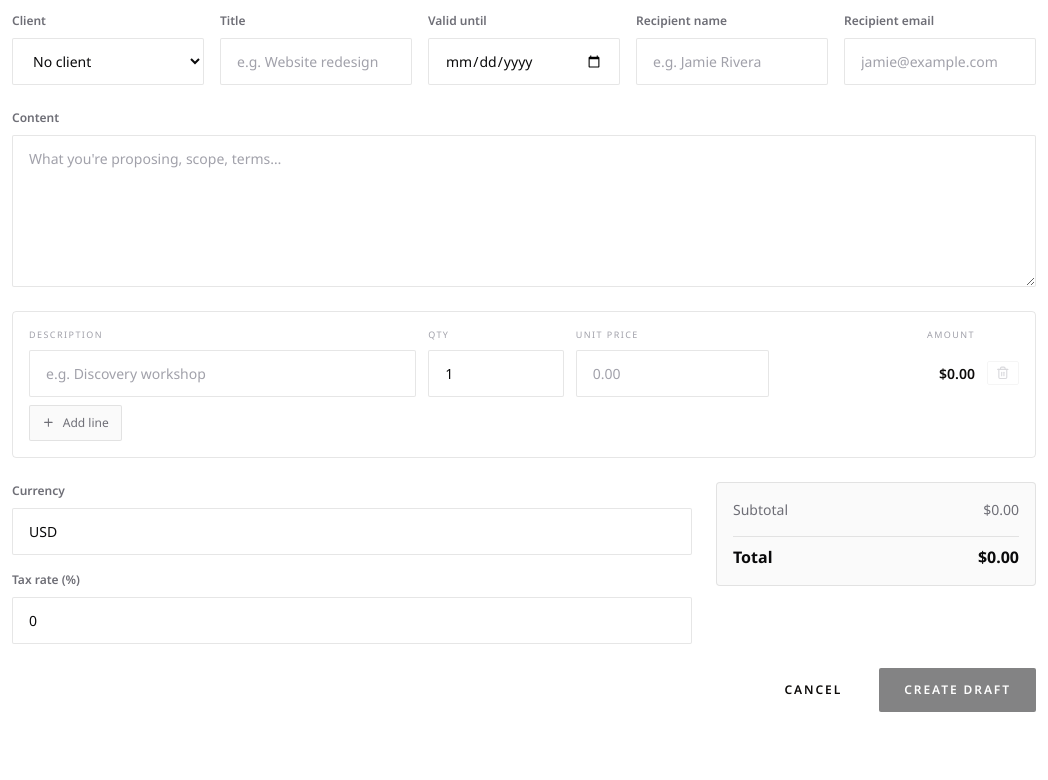
ProposalForm › computes live totals matching the backend formula
The width and height of the screenshot is (1048, 780).
In the field labelled "Title": (316, 62) [220, 38, 412, 85], type "Website redesign"
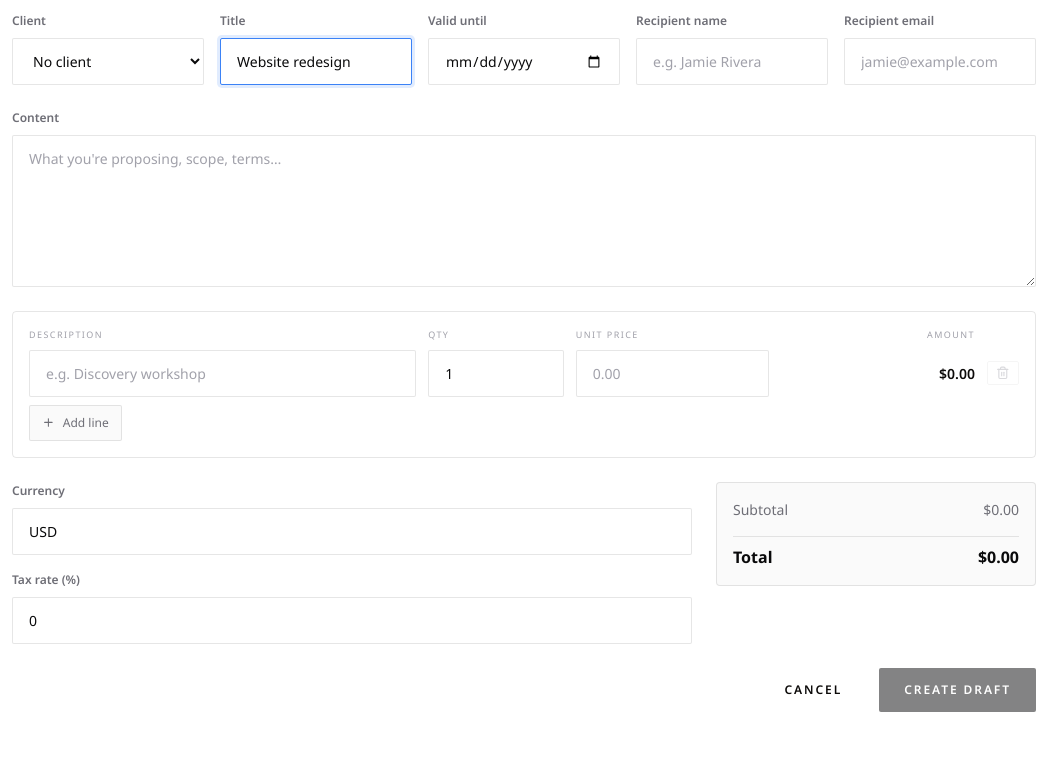
In the field named "Line 1 description": (223, 373) [29, 350, 416, 396], type "Design"
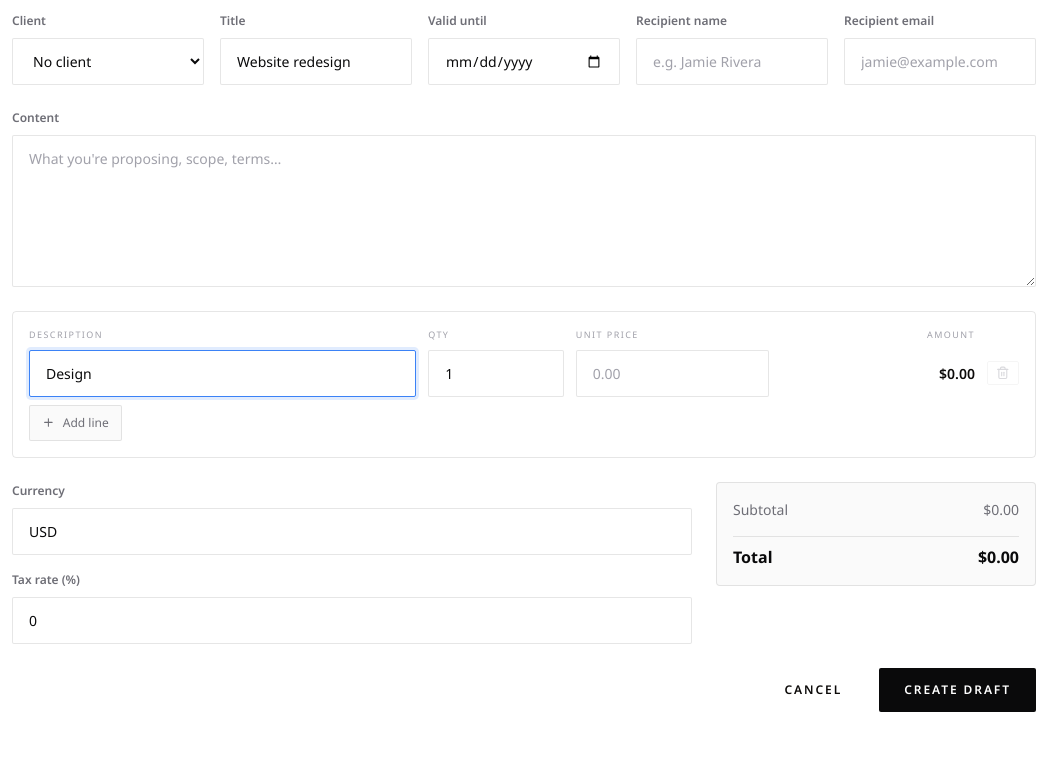
Replace the text in the number field named "Line 1 quantity" with "10": (496, 373) [428, 350, 564, 396]
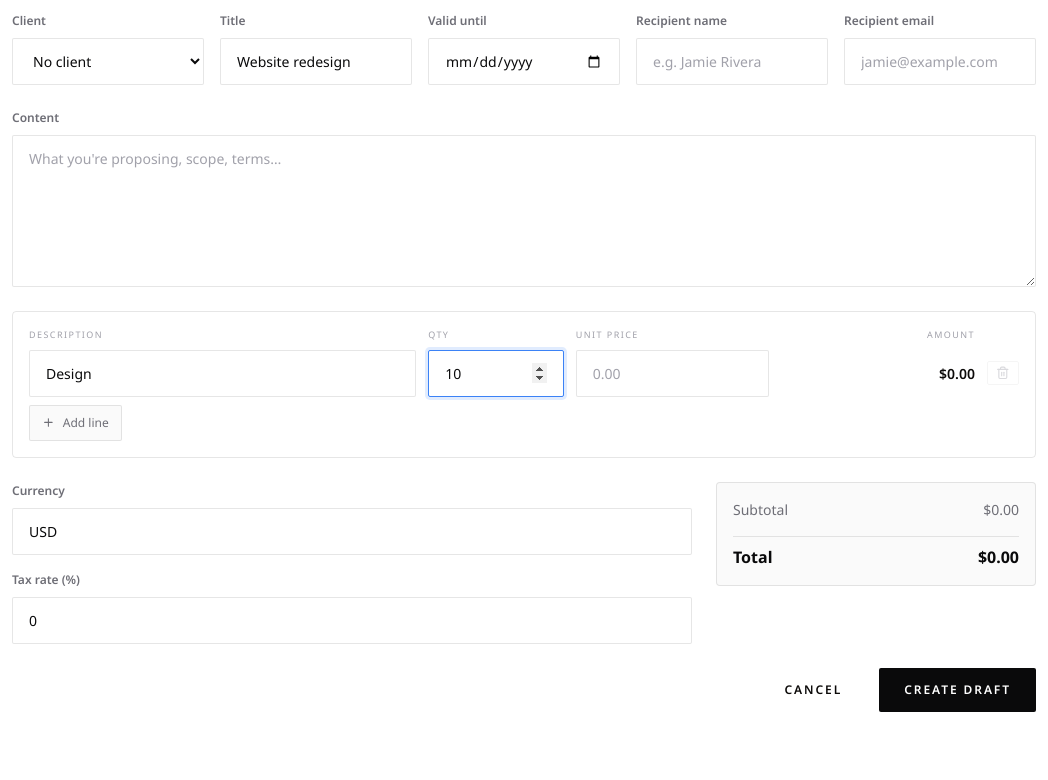
In the number field named "Line 1 unit price": (673, 373) [576, 350, 769, 396], type "150"
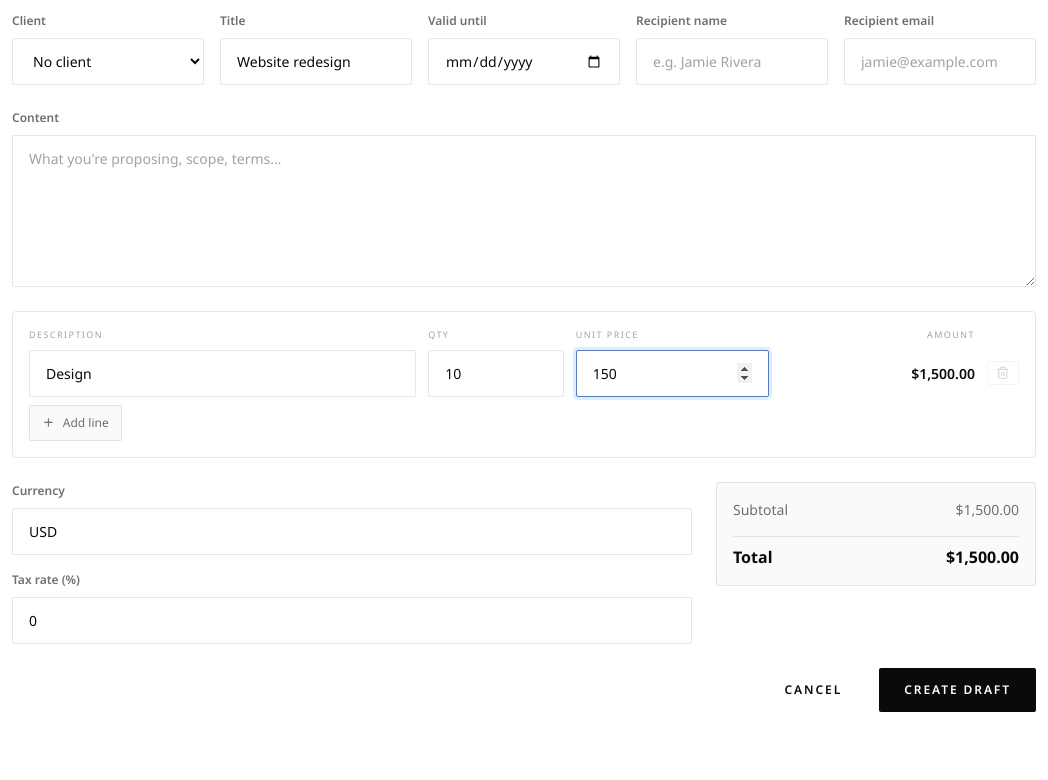
Replace the text in the number field labelled "Tax rate (%)" with "10": (352, 620) [12, 596, 692, 644]
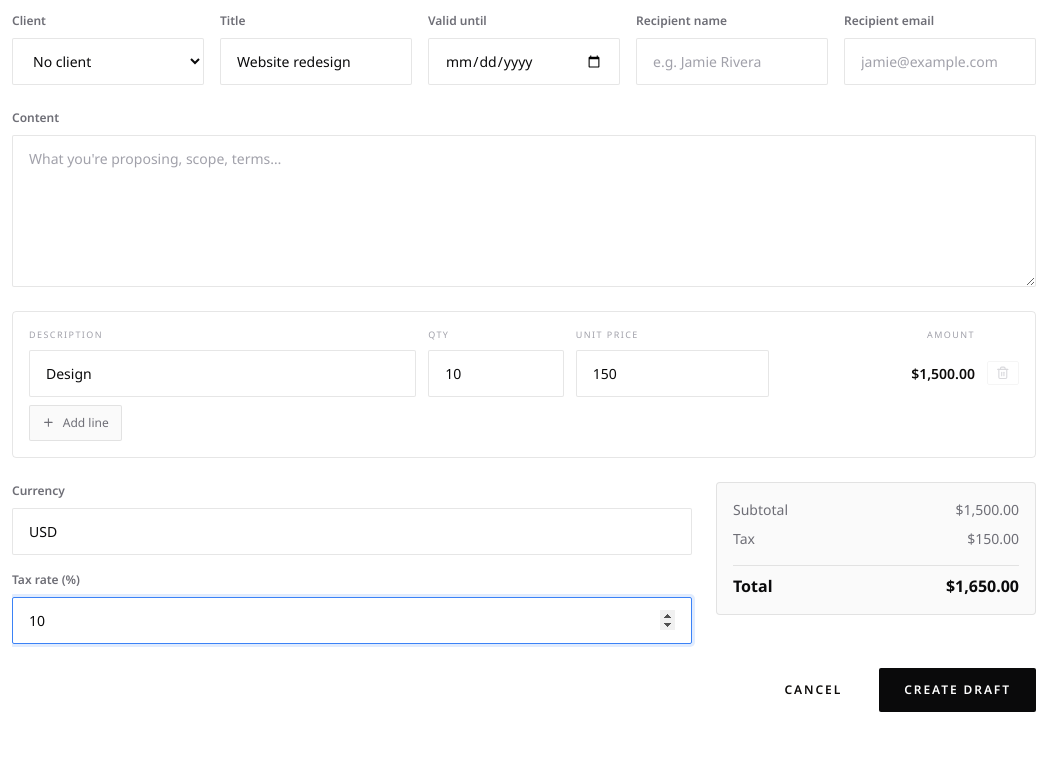
Check: the text "$150.00" is shown, box [967, 528, 1019, 548]
Check: the text "$1,650.00" is shown, box [946, 574, 1019, 598]
